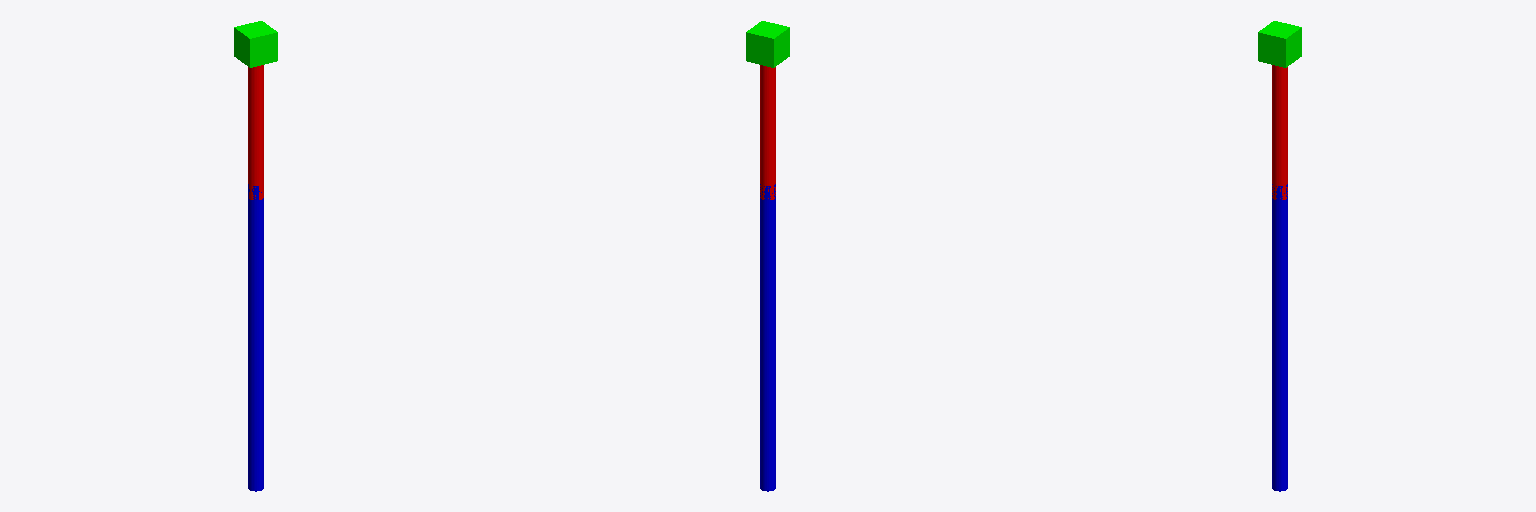
robot.urdf — Acrobot:
<?xml version="1.0"?>

<robot xmlns="http://drake.mit.edu"
 xmlns:xsi="http://www.w3.org/2001/XMLSchema-instance"
 xsi:schemaLocation="http://drake.mit.edu ../../doc/drakeURDF.xsd" name="Acrobot">

  <link name="base_link">
   <inertial>
      <origin xyz="0 0 0" rpy="0 0 0" />
      <mass value="0.1" />
      <inertia ixx=".1" ixy="0" ixz="0" iyy=".1" iyz="0" izz=".1" />
    </inertial>
   <visual>
      <geometry>
         <box size=".2 .2 .2" />
      </geometry>
      <material name="green">
        <color rgba="0 1 0 1" />
      </material>
    </visual>
<!--    <collision>
      <geometry>
         <box size=".2 .2 .2" />
      </geometry>
    </collision> -->
  </link>

  <link name="upper_link">
    <inertial>
      <origin xyz="0 0 -.5" rpy="0 0 0" />
      <mass value="1" />
      <inertia ixx="1" ixy="0" ixz="0" iyy="0.083" iyz="0" izz="1" />
    </inertial>
    <visual>
      <origin xyz="0 0 -.5" rpy="0 0 0" />
      <geometry>
         <cylinder length="1.1" radius=".05" />
      </geometry>
      <material name="red">
        <color rgba="1 0 0 1" />
      </material>
    </visual>
   <!--  <collision>
      <geometry>
        <origin xyz="0 0 -.5" rpy="0 0 0" />
         <box size=".1 .1 1.1" />
      </geometry>
    </collision> -->
  </link>

  <link name="lower_link">
    <inertial>
      <origin xyz="0 0 -1" rpy="0 0 0" />
      <mass value="1" />
      <inertia ixx="1" ixy="0" ixz="0" iyy="0.33" iyz="0" izz="1" />
    </inertial>
    <visual>
      <origin xyz="0 0 -1" rpy="0 0 0" />
      <geometry>
        <cylinder length="2.1" radius=".05" />
      </geometry>
      <material name="blue">
        <color rgba="0 0 1 1" />
      </material>
    </visual>
    <collision>
      <origin xyz="0 0 -1" rpy="0 0 0" />
      <geometry>
        <capsule radius="0.05" length="2.1"/>
      </geometry>
    </collision> 
  </link>
  
  <joint name="shoulder" type="continuous">
    <parent link="base_link" />
    <child link="upper_link" />
    <origin xyz="0 0 0" />
    <axis xyz="0 1 0" />
    <dynamics damping="0.1" />
  </joint>

  <joint name="elbow" type="continuous">
    <parent link="upper_link" />
    <child link="lower_link" />
    <origin xyz="0 0 -1" />
    <axis xyz="0 1 0" />
    <dynamics damping="0.1" />
  </joint>

  <transmission type="SimpleTransmission" name="elbow_trans">
    <actuator name="elbow_torque" />
    <joint name="elbow" />
    <mechanicalReduction>1</mechanicalReduction>
  </transmission>
  
  <frame name="hand" link="lower_link" xyz="0 0 -2.1" rpy="0 0 0" />

</robot>

--- Render facts (derived) ---
3 views of the same robot in one strip: view 1: azimuth 30°, elevation 25°; view 2: azimuth 150°, elevation 25°; view 3: azimuth 330°, elevation 25° (orthographic).
Robot: Acrobot — 3 links, 2 joints (2 continuous); root link base_link; default pose: every joint at zero.
Links seen in each view (by area): view 1: lower_link, upper_link, base_link; view 2: lower_link, upper_link, base_link; view 3: lower_link, upper_link, base_link.
Boxes of the visible links, x1,y1,x2,y2 form: lower_link: [248, 184, 263, 491]; upper_link: [248, 65, 263, 199]; base_link: [234, 21, 277, 67]; lower_link: [760, 184, 775, 491]; upper_link: [760, 65, 775, 199]; base_link: [746, 21, 789, 67]; lower_link: [1272, 184, 1287, 491]; upper_link: [1272, 65, 1287, 199]; base_link: [1258, 21, 1301, 67].
Bounding box of the posed robot: 0.2 × 0.2 × 3.15 m (x, y, z).
Geometry: primitives only (box / cylinder / sphere), no mesh files.
